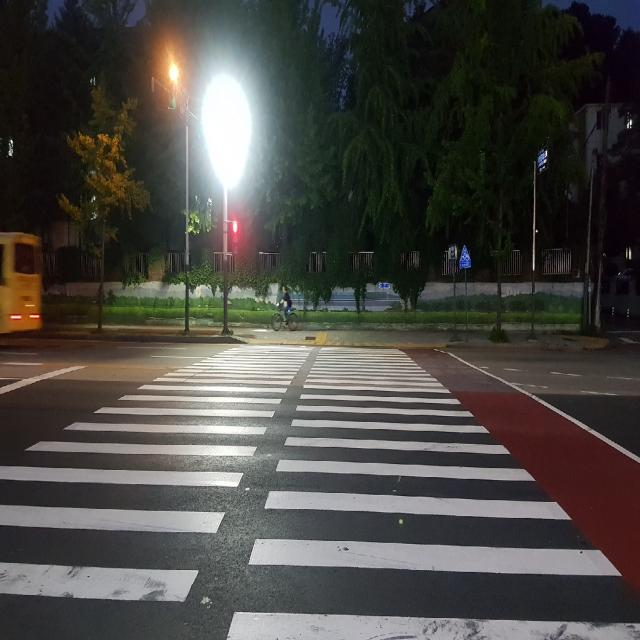빨간불: (230, 220, 241, 261)
횡단보도: (0, 338, 640, 639)
